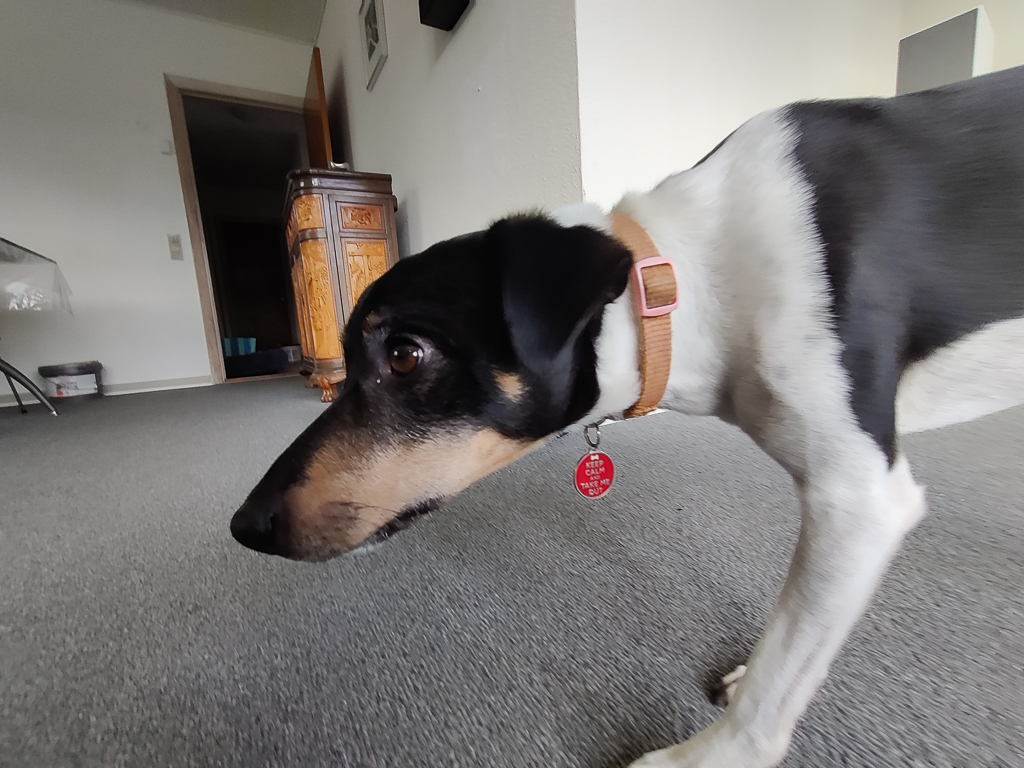Dog: (215, 54, 1024, 768)
